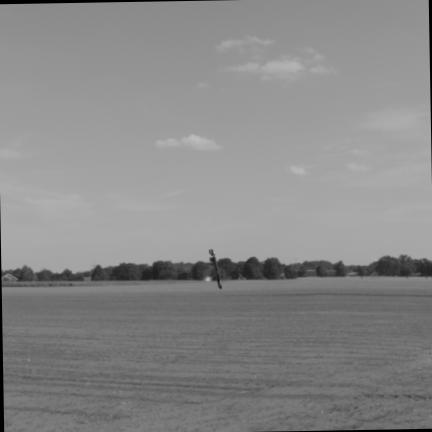Shahed: (209, 249, 221, 287)
